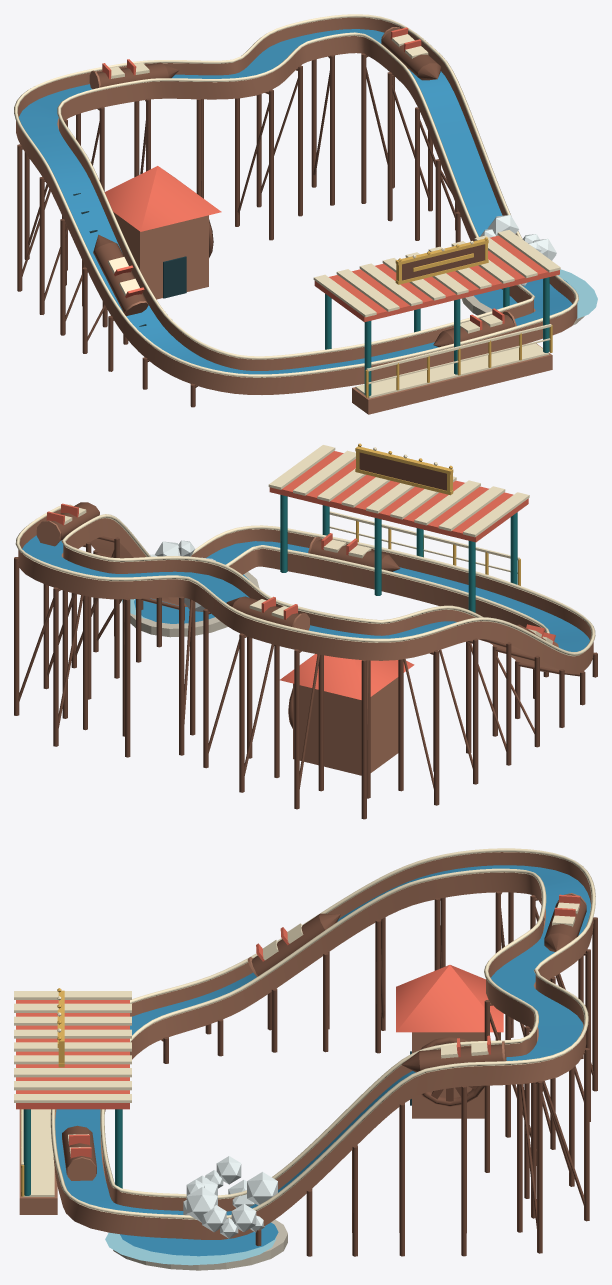
Rendered from ride_logflume.glb.
The picture shows the model from 3 angles, top to bottom: view 1: azimuth 30°, elevation 25°; view 2: azimuth 150°, elevation 25°; view 3: azimuth 270°, elevation 25°; orthographic projection. The views are drawn at different scales.
Parts seen in each view (by area): view 1: ride_logflume; view 2: ride_logflume; view 3: ride_logflume.
Boxes of the visible parts, bbox=[...] form: ride_logflume: bbox=[14, 14, 597, 414]; ride_logflume: bbox=[14, 443, 597, 819]; ride_logflume: bbox=[14, 848, 597, 1270].
Bounding box in the file's own units: 15.39 × 5.91 × 15.34.
